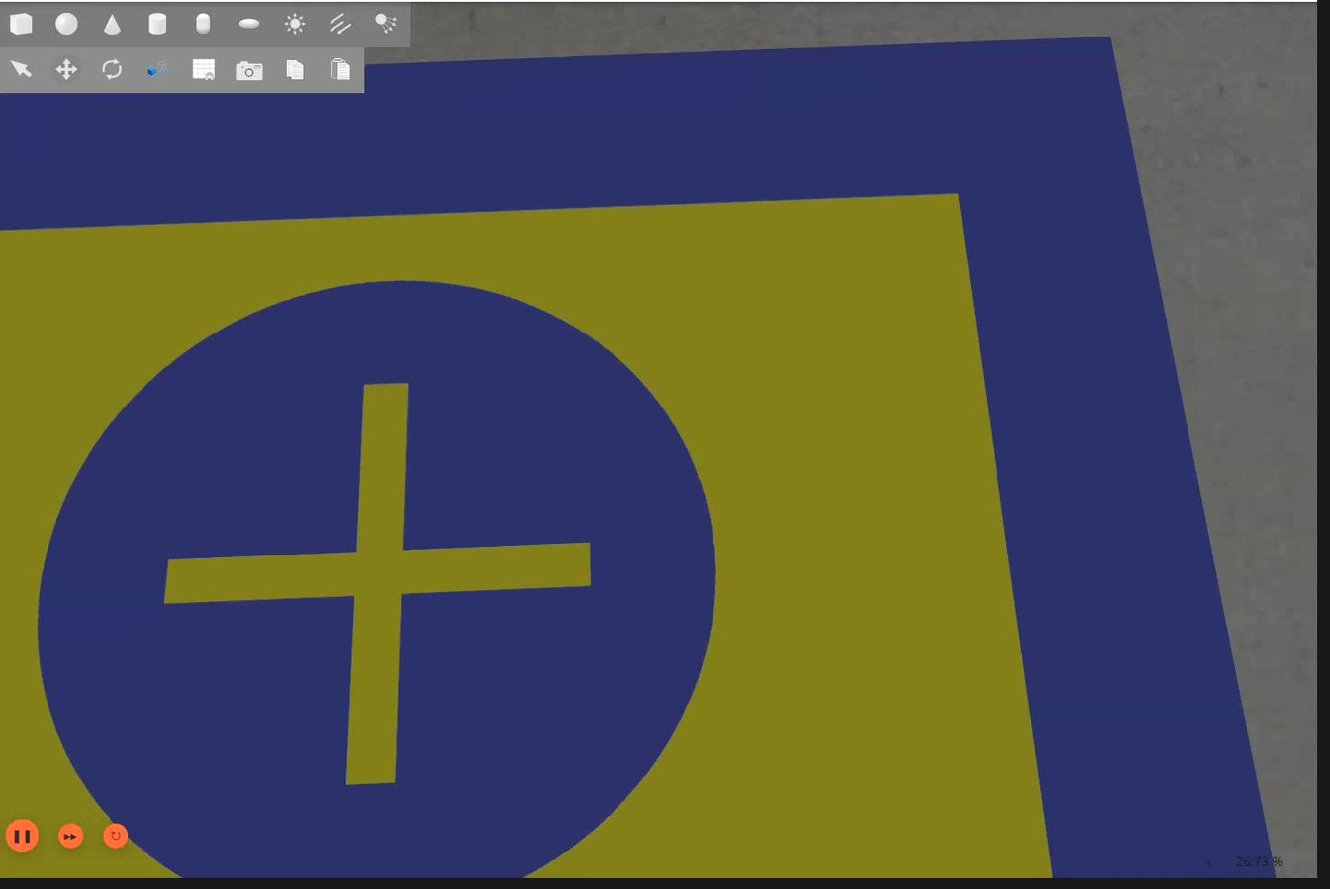large_base: (1, 32, 1282, 880)
